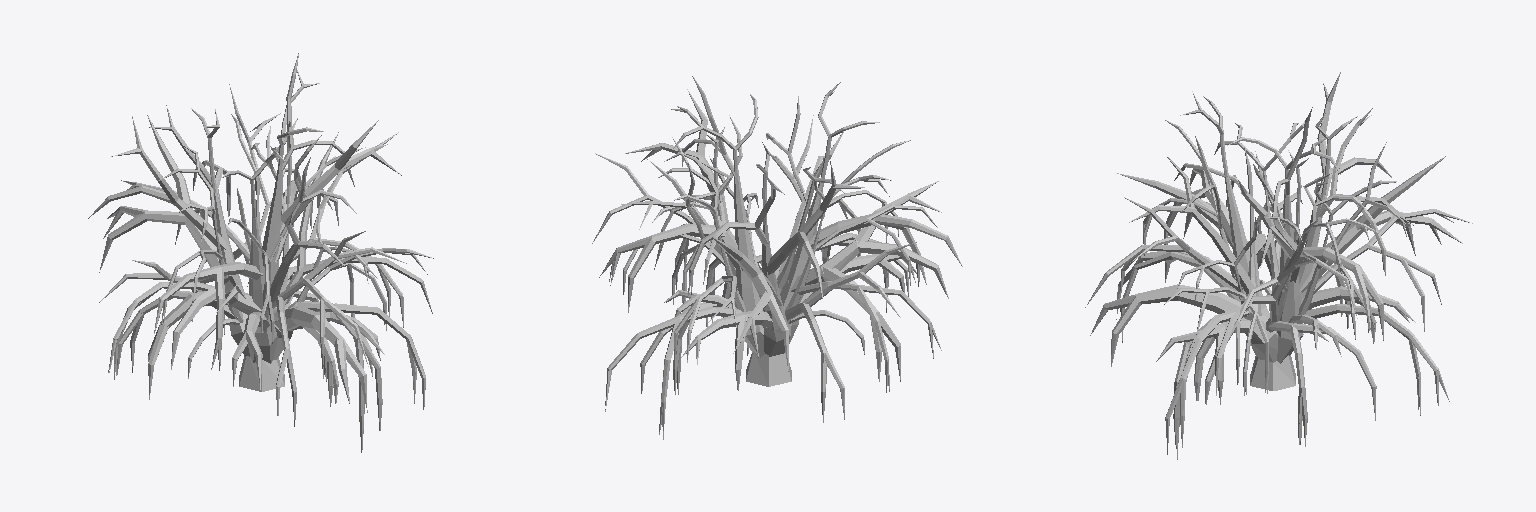
Rendered from tree17.obj.
3 renders of one model, left to right at view 1: azimuth 30°, elevation 25°; view 2: azimuth 150°, elevation 25°; view 3: azimuth 270°, elevation 25°, orthographic.
Visible parts, largest first — view 1: tree; view 2: tree; view 3: tree.
Part boxes in pixels (left/top/right/bottom): tree: left=88, top=53, right=433, bottom=452; tree: left=592, top=76, right=962, bottom=439; tree: left=1085, top=72, right=1472, bottom=459.
Bounding box in the file's own units: 5.33 × 5.68 × 5.62.